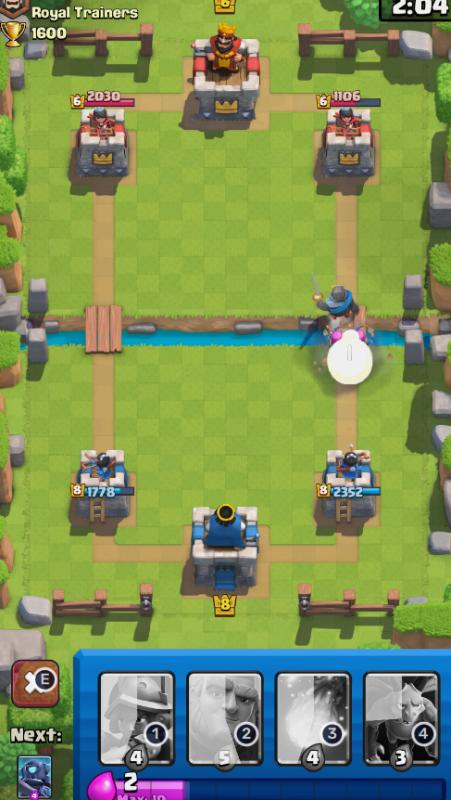chevalier: (314, 270, 370, 330)
